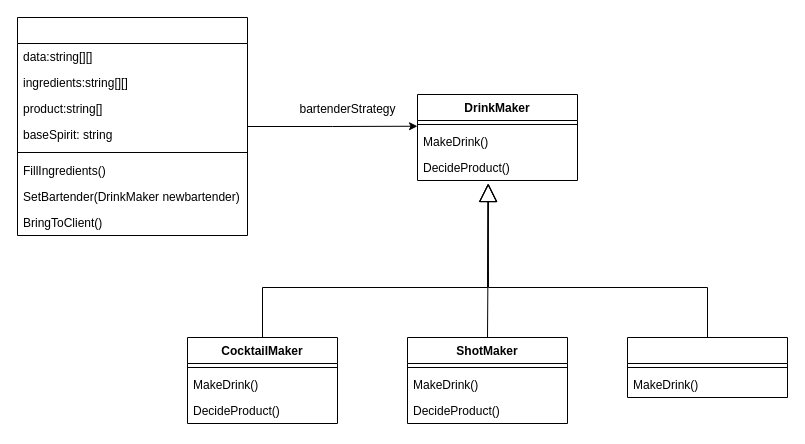
Image size: 805x444. Some labels were removed from this diagram. The shapes that lost their labels are listed below. From the top down, each one's box as (x1, y1, x2, y2) in pixels, then its label:
(16, 16, 248, 236): Bundler
(626, 336, 788, 398): BeerMaker
